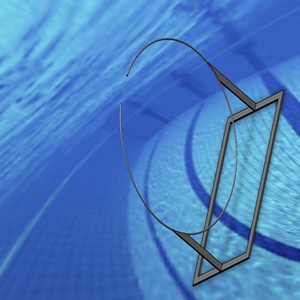circle: (117, 35, 284, 285)
